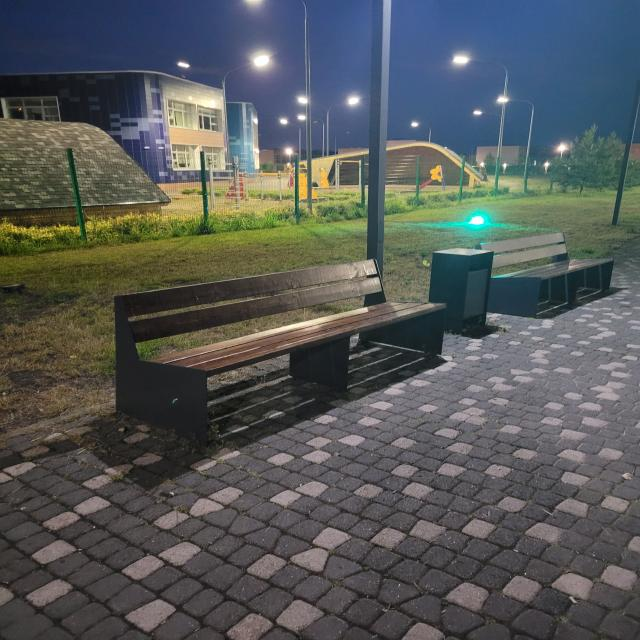Bench: (117, 259, 446, 445)
